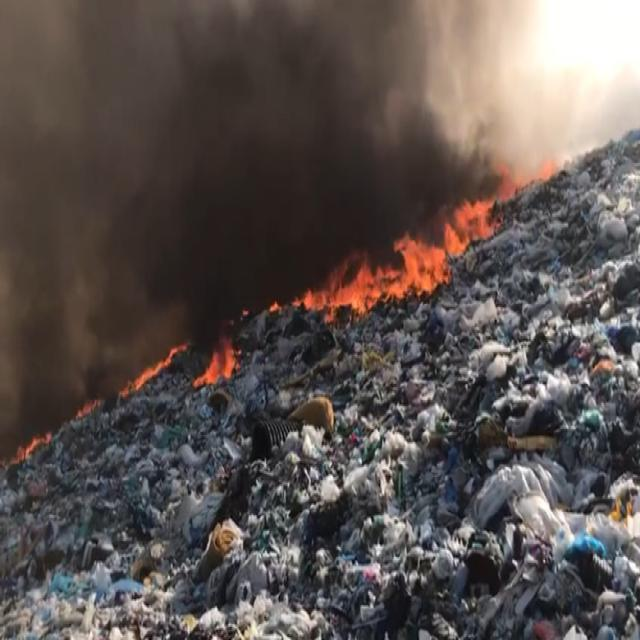Fire: (295, 236, 428, 328), (422, 182, 503, 306), (194, 340, 247, 392), (132, 338, 181, 387)
Smoke: (1, 8, 510, 438)
